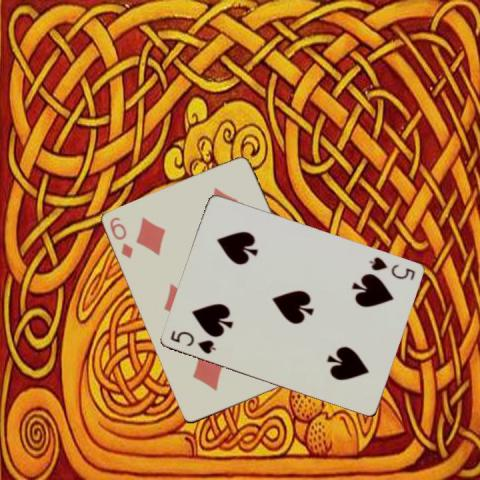5s: (366, 253, 417, 282), (168, 328, 218, 356)
6d: (106, 214, 134, 261)
